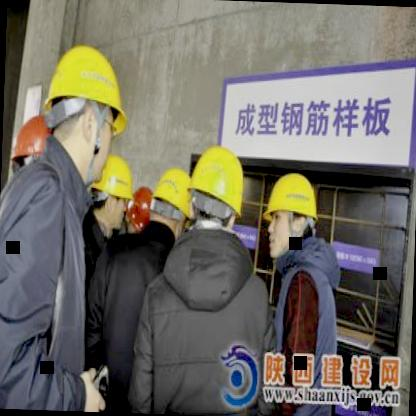helmet: (44, 41, 130, 186), (186, 143, 247, 236), (262, 168, 318, 264), (150, 166, 196, 244), (9, 110, 56, 181), (92, 153, 134, 230), (124, 184, 158, 237)
